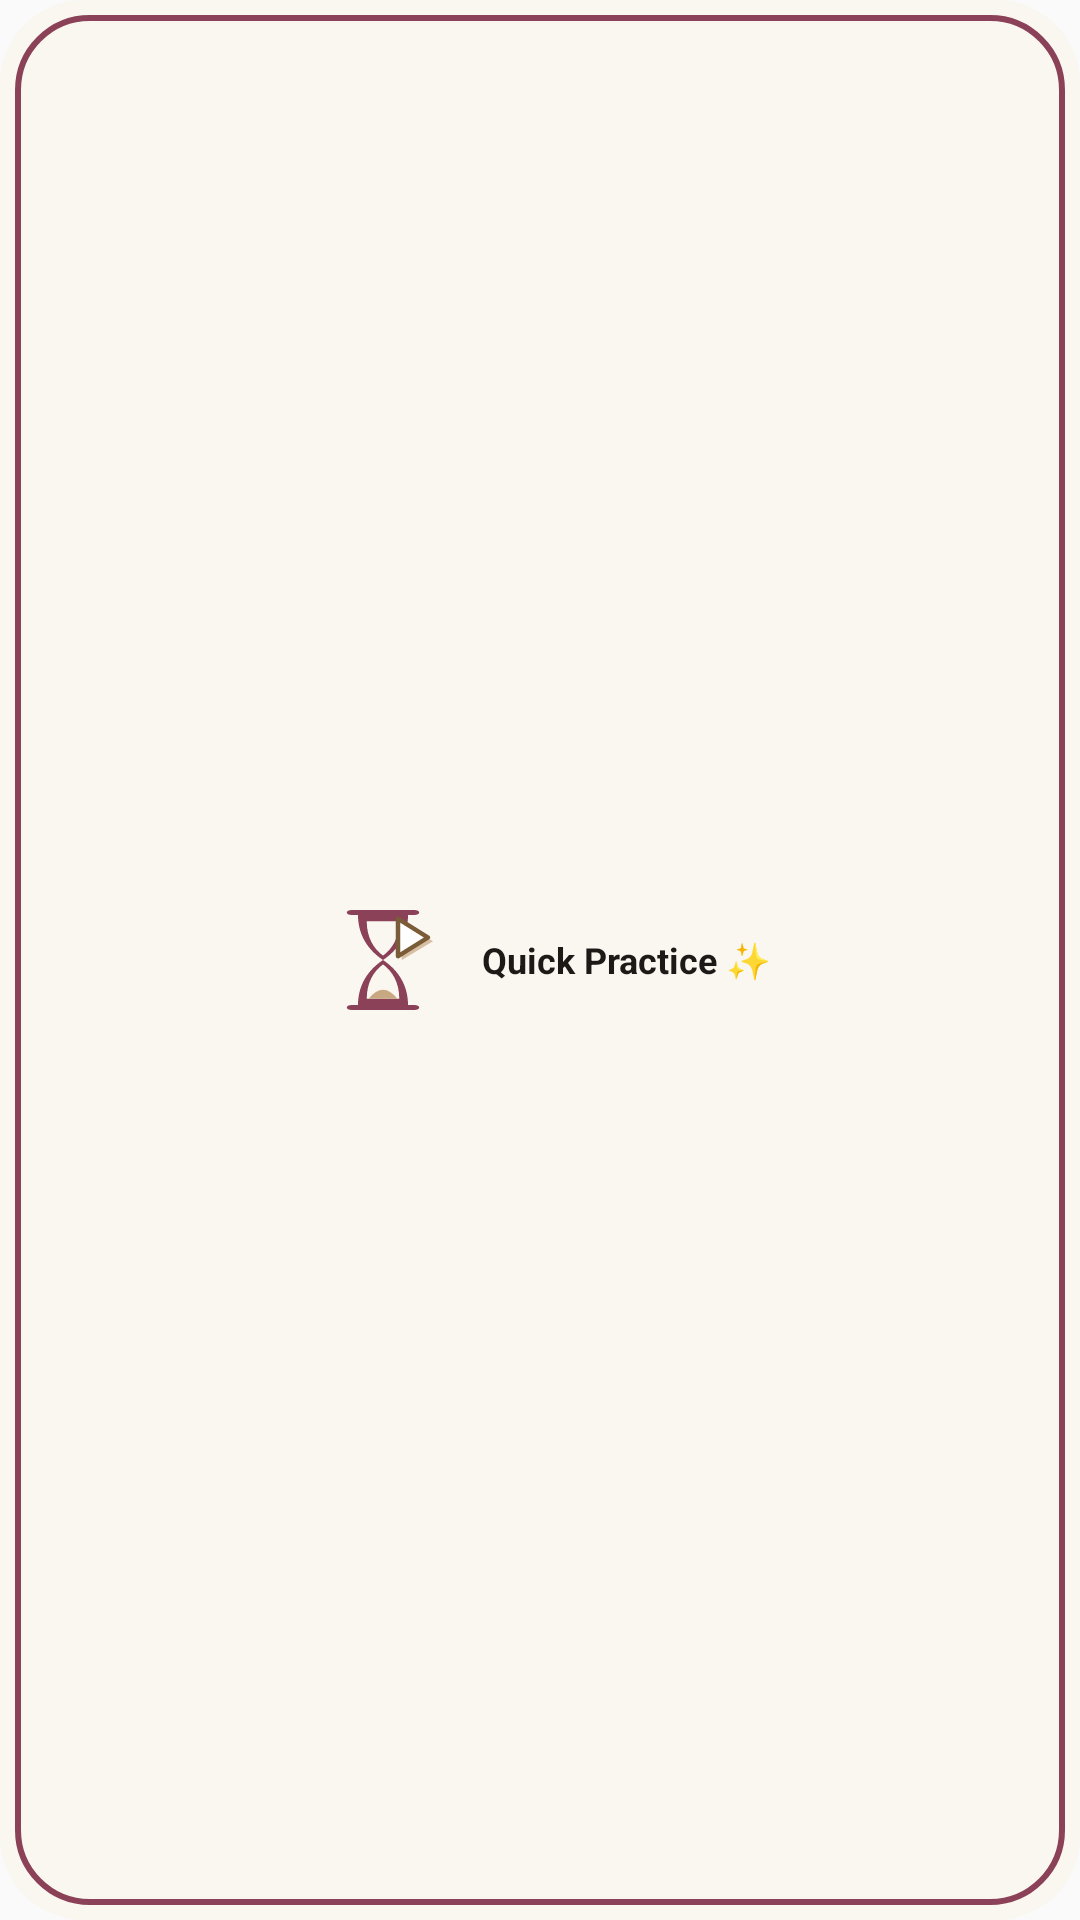

Where icons sit on this 1080w x 1920h app screen, as (x1, y1, x2, y2):
widget hourglass play: (347, 910, 433, 1010)
